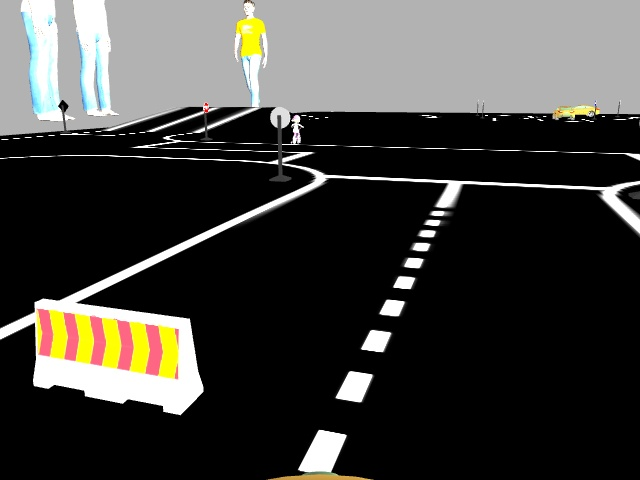ClosedRoadStand: (33, 300, 191, 412)
